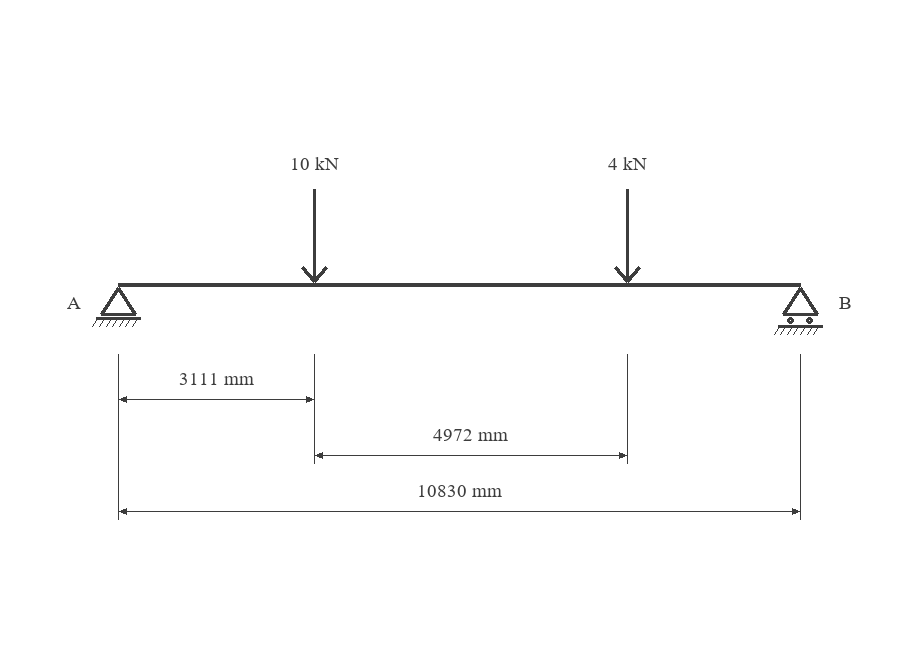pin_support: (92, 287, 141, 327)
point_load: (301, 189, 328, 283), (614, 189, 641, 283)
roller_support: (774, 287, 823, 335)
